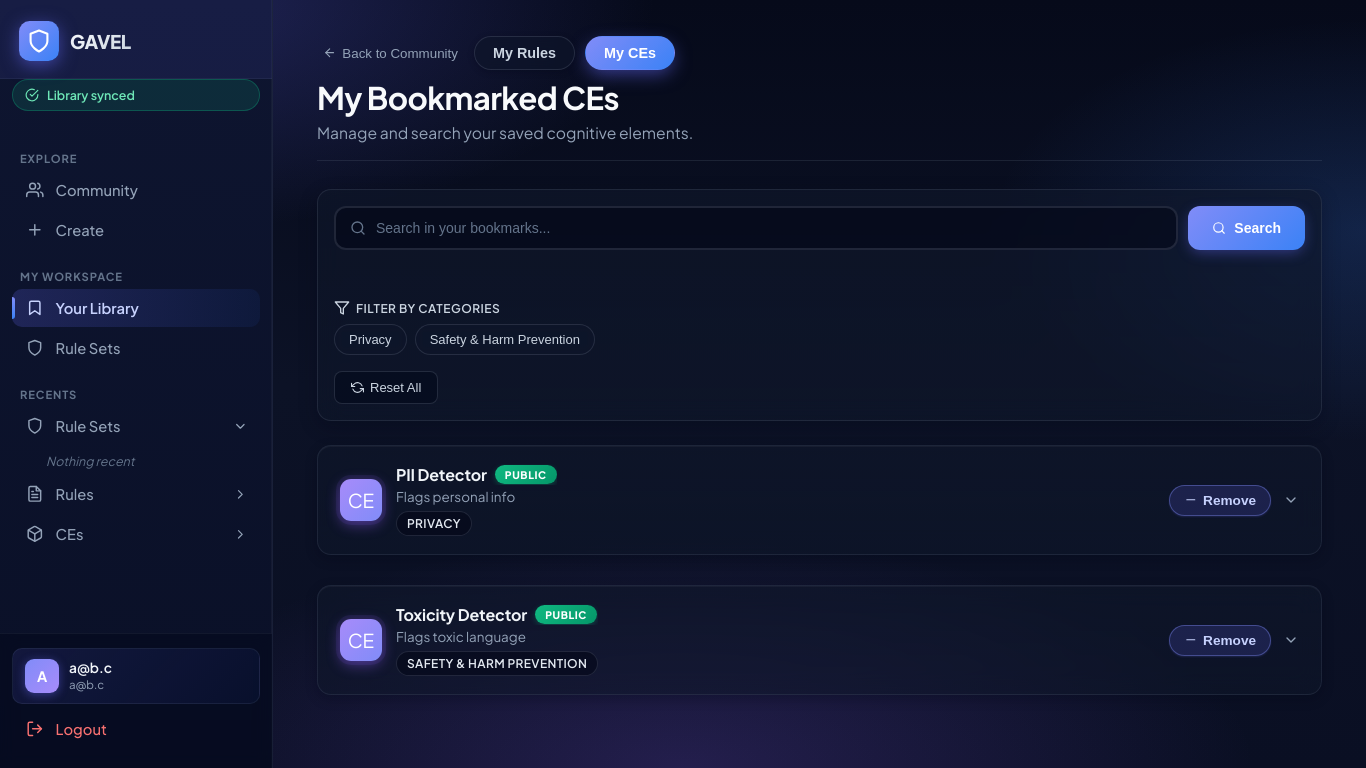
Test: BookmarksCEs › runs a server search when a query is typed
The width and height of the screenshot is (1366, 768).
Expected: the heading "Toxicity Detector Public" is shown, [396,604,598,625]
Type "tox" into the field with placeholder "Search in your bookmarks..." at (764, 228), box [366,208,1162,248]
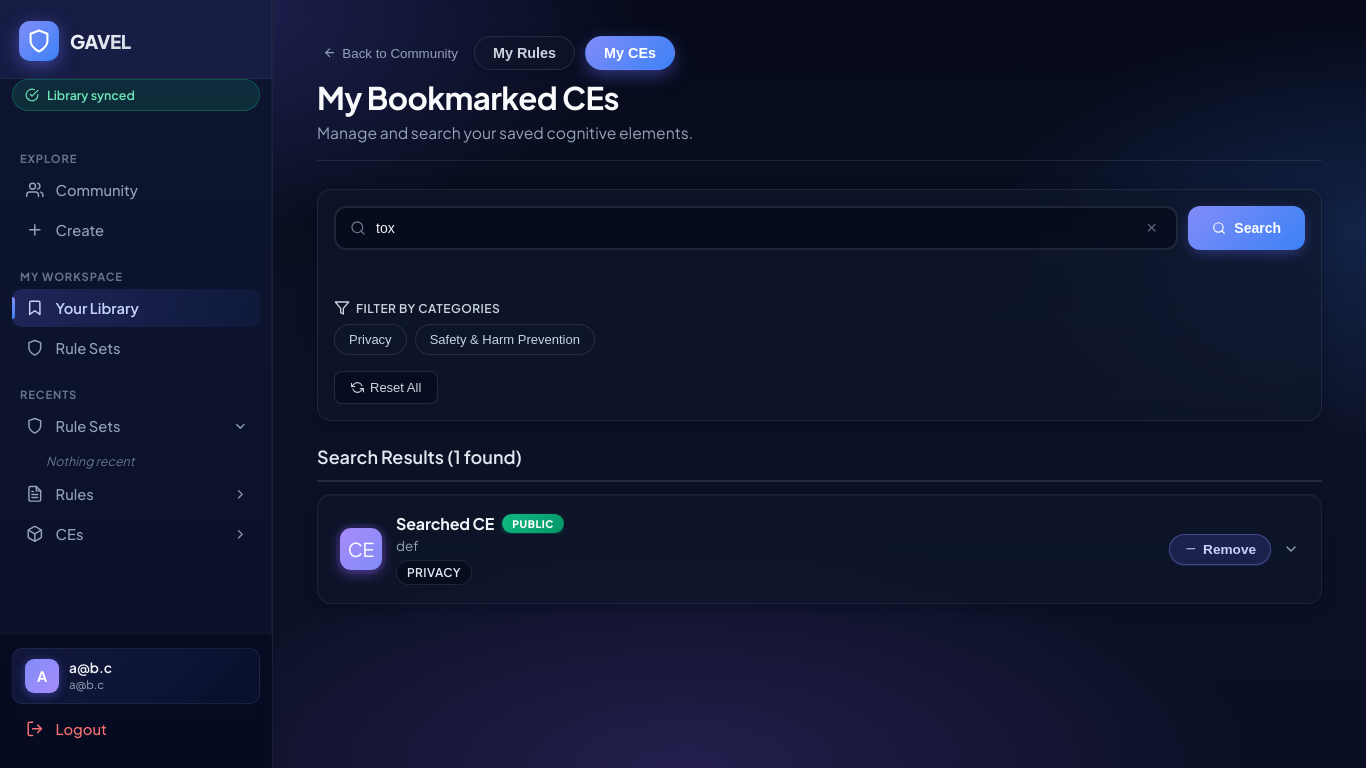
Expected: the heading "Search Results (1 found)" is shown, [317,445,522,468]
Expected: the heading "Searched CE Public" is shown, [396,513,564,534]
